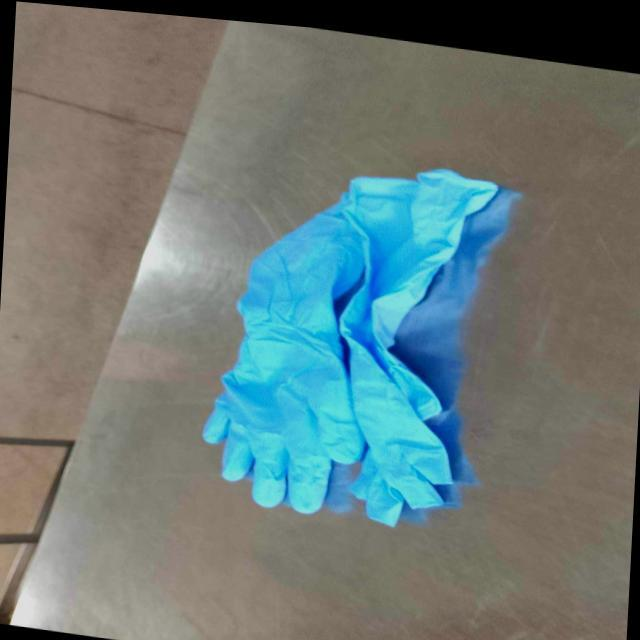General: (0, 2, 639, 639)
Infectious: (201, 166, 516, 527)
